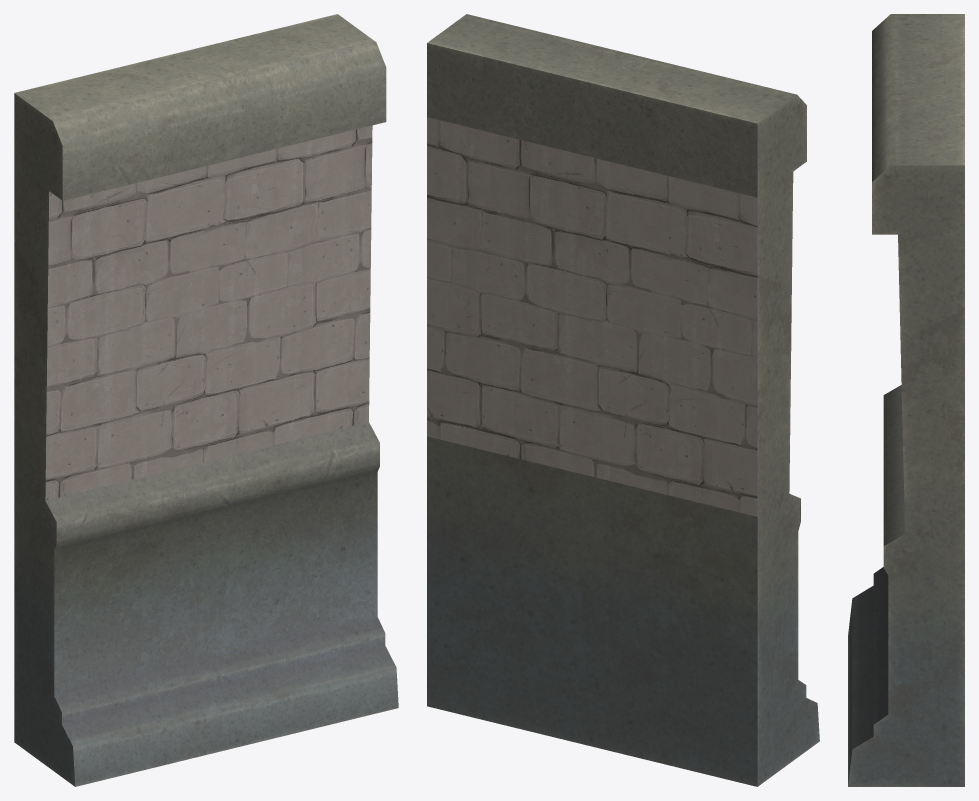
The model's file is AD_Wall_C_01.fbx.
The picture shows the model from 3 angles, left to right: view 1: azimuth 30°, elevation 25°; view 2: azimuth 150°, elevation 25°; view 3: azimuth 270°, elevation 25°; orthographic projection. The views are drawn at different scales.
Visible parts, largest first — view 1: AD_Wall_C_01; view 2: AD_Wall_C_01; view 3: AD_Wall_C_01.
Part boxes in pixels (<box>): AD_Wall_C_01: <box>14,14,398,786</box>; AD_Wall_C_01: <box>427,14,819,786</box>; AD_Wall_C_01: <box>848,14,964,786</box>.
Size of the model in its own units: 400 by 768 by 131.
2 materials, 2 textured.
